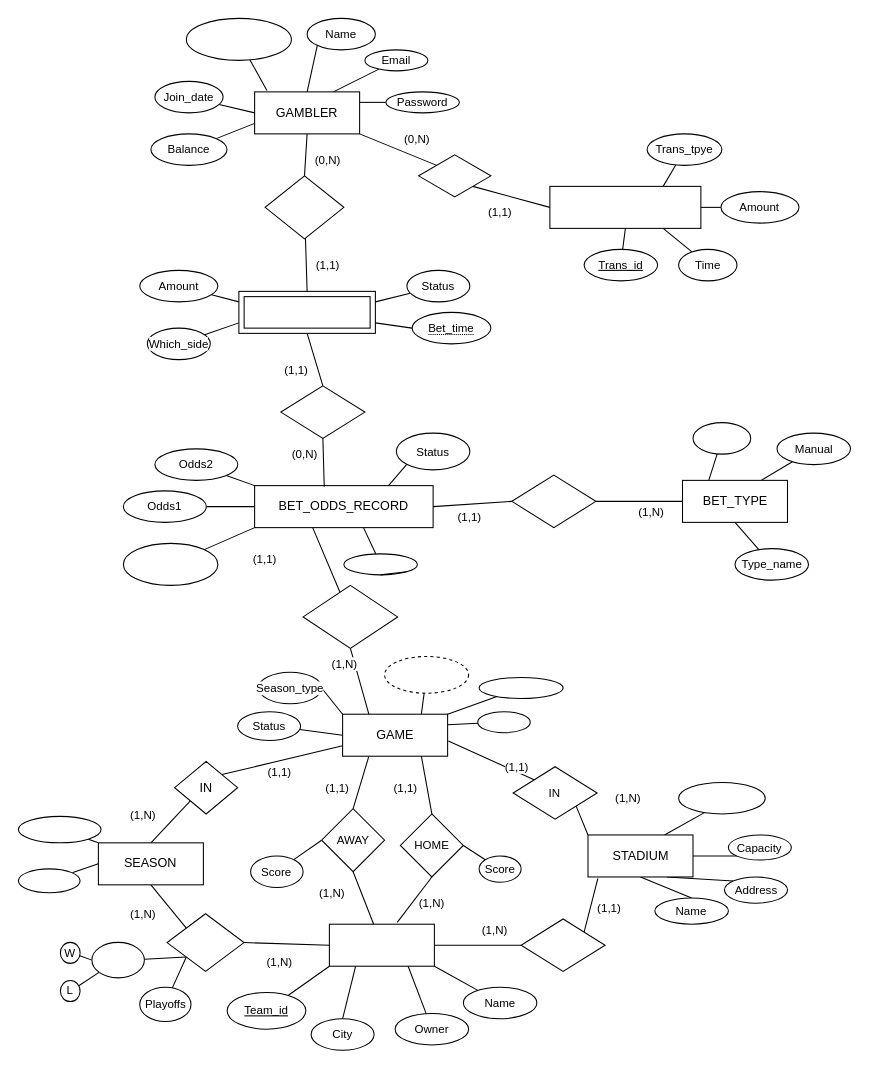
Some shapes in this 869 by 1069 pixel diagram are drawn without their labels. The shapes that lost their labels are listed below. From the top down, each one's centre as x and y in pixels, then its label:
At (238,38): "Gambler_id".
At (454,175): "MAKE".
At (304,207): "BET".
At (625,206): "CASHFLOW_RECORD".
At (306,311): "GAMBLER_BETS".
At (322,411): "IS_FROM".
At (721,438): "Type_id".
At (553,501): "PLAY_ON".
At (170,563): "Latest_modified".
At (380,564): "Record_id".
At (350,616): "SET_ON".
At (426,674): "home_win".
At (520,687): "Game_id".
At (503,722): "Start_time".
At (721,797): "Stadium_id".
At (59,829): "Season_year".
At (48,880): "Champion".
At (117,959): "Record".
At (205,942): "OF".
At (381,944): "TEAM".
At (562,944): "HAS".
